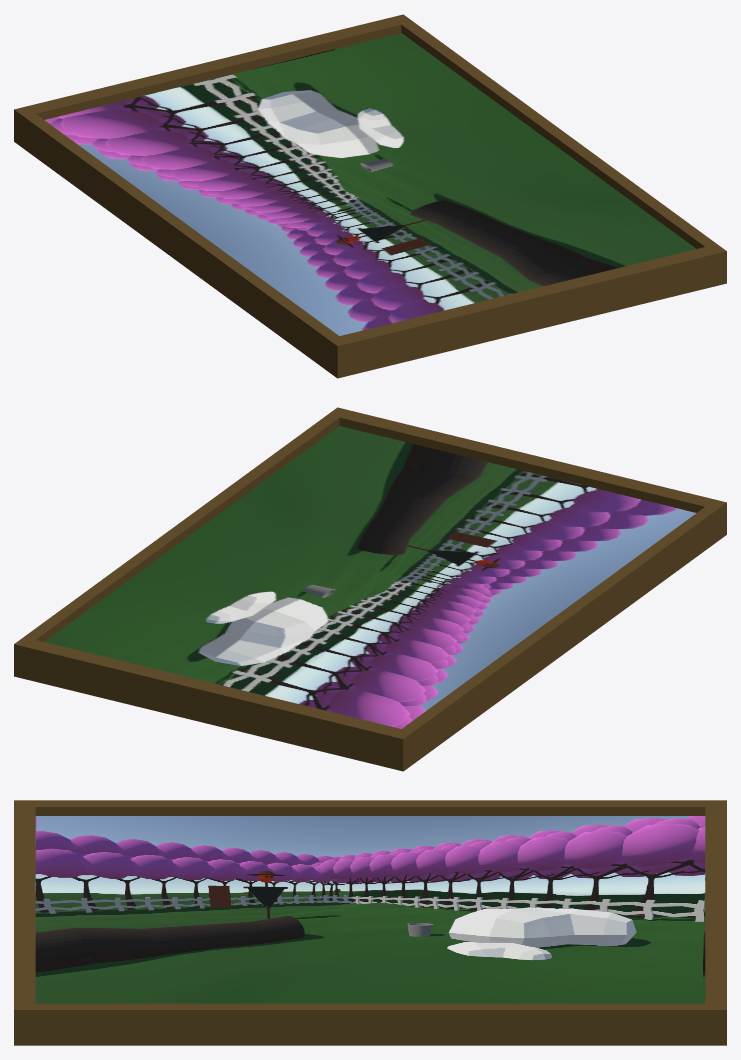
Rendered from SCHILDERIJ.fbx.
3 renders of one model, top to bottom at view 1: azimuth 30°, elevation 25°; view 2: azimuth 150°, elevation 25°; view 3: azimuth 270°, elevation 25°, orthographic. The views are drawn at different scales.
Parts seen in each view (by area): view 1: Cube; view 2: Cube; view 3: Cube.
Boxes of the visible parts, x1=… form: Cube: x1=14, y1=14, x2=726, y2=378; Cube: x1=14, y1=407, x2=726, y2=771; Cube: x1=14, y1=800, x2=726, y2=1045.
Size of the model in its own units: 200 by 15.85 by 288.
